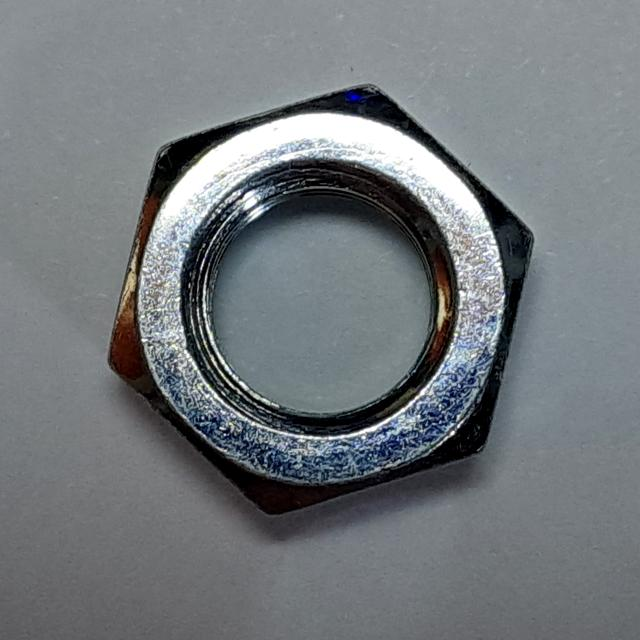Excellent: (87, 66, 556, 540)
